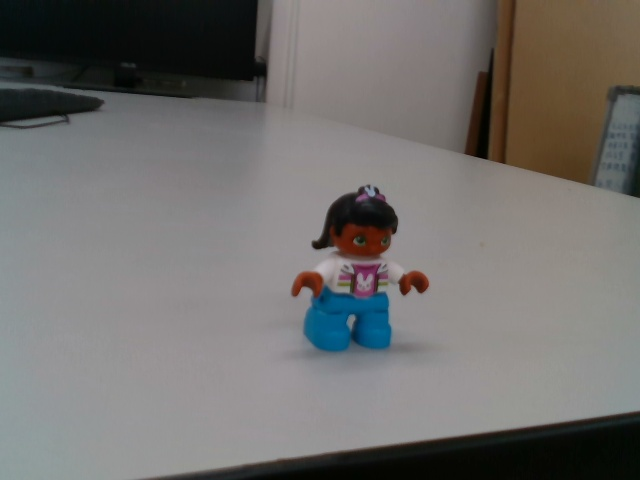people: (287, 183, 433, 353)
